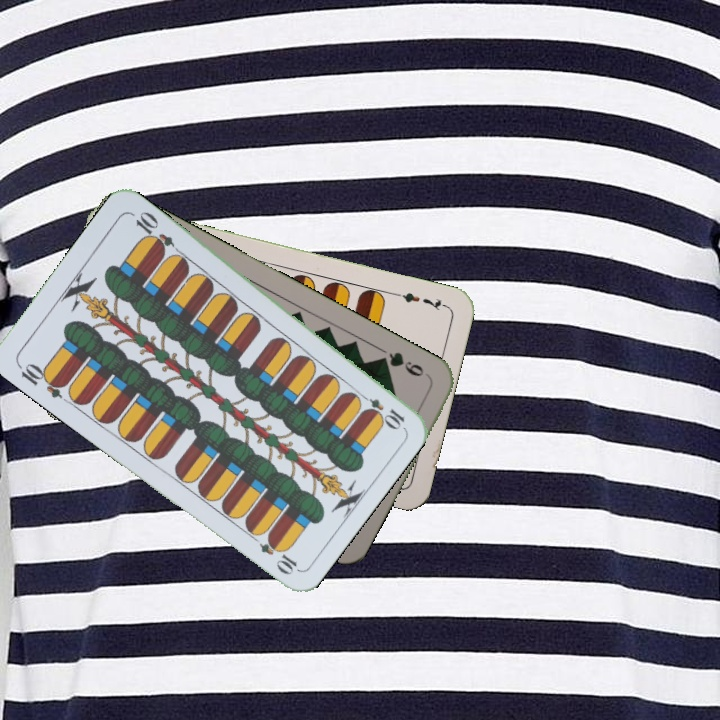E10: (13, 358, 69, 401), (353, 388, 408, 431)
E7: (391, 288, 449, 314)
G9: (374, 348, 427, 379)
